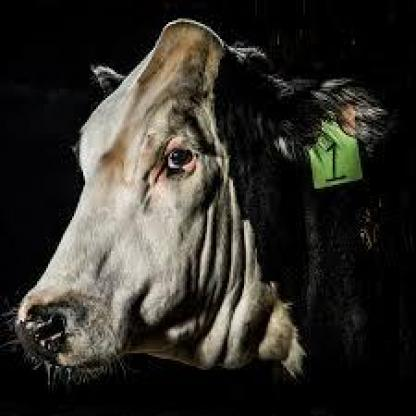cow: (15, 16, 416, 416)
